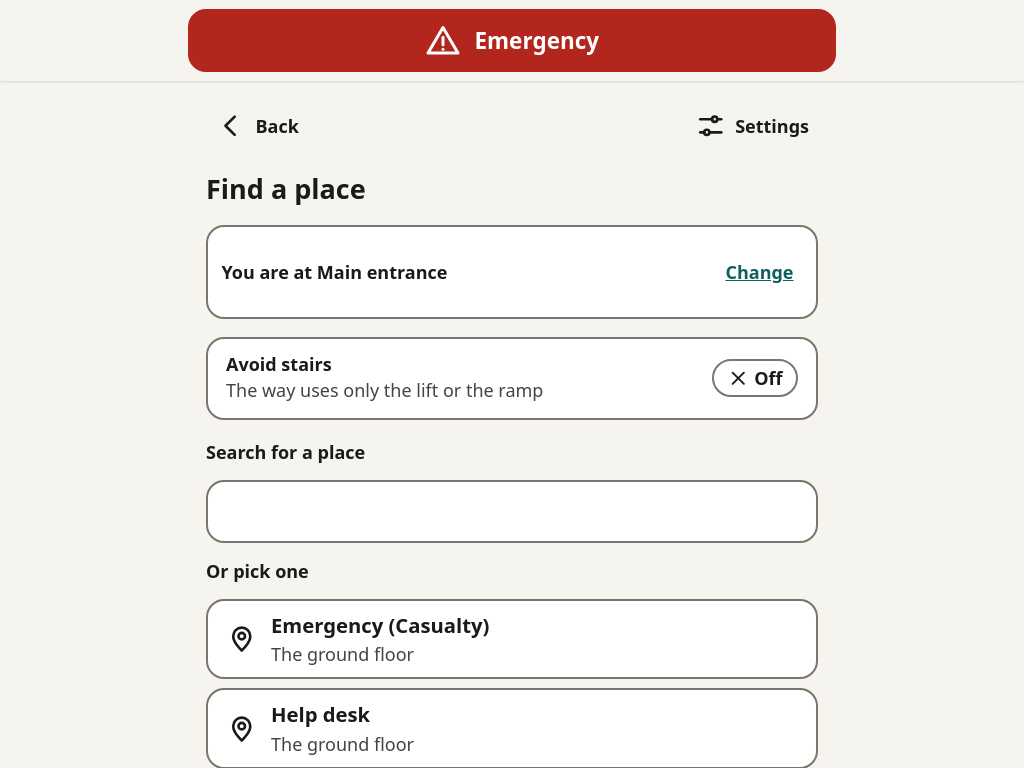
Test: Find a place › lists places to search or pick, without lifts, stairs or corridor points
Type "ward" into the search field labelled "Search for a place".
click(512, 512); type("ward")  # box [206, 480, 818, 543]
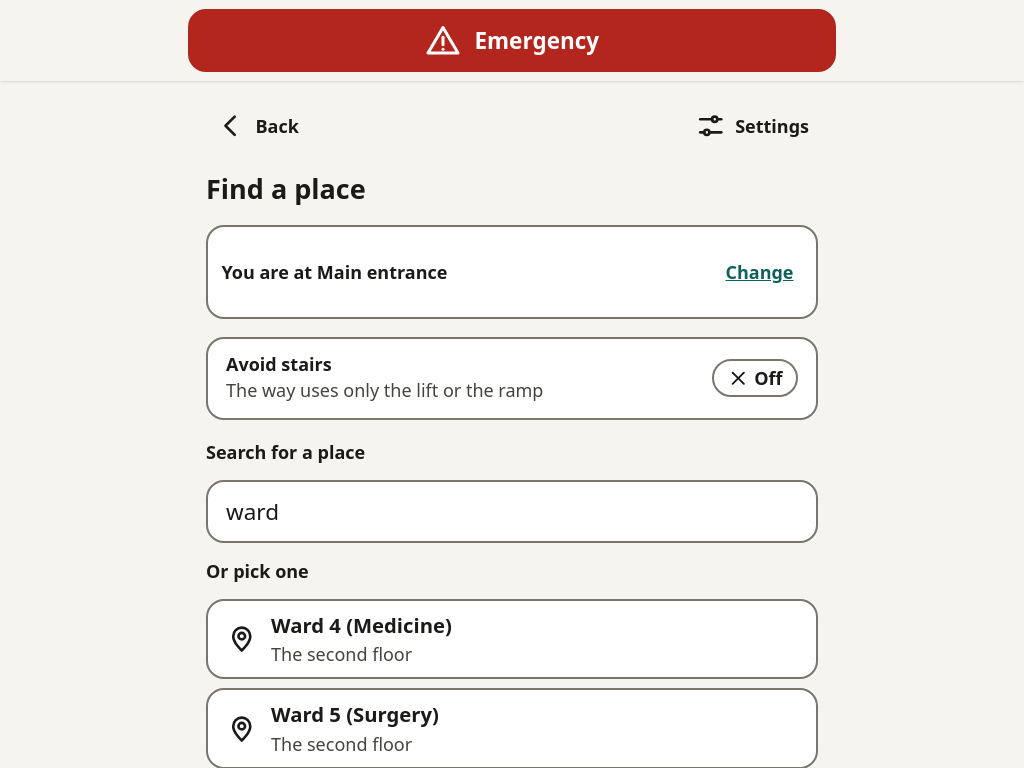
Result: the number of buttons "Ward 4 (Medicine) The second floor" is 3
